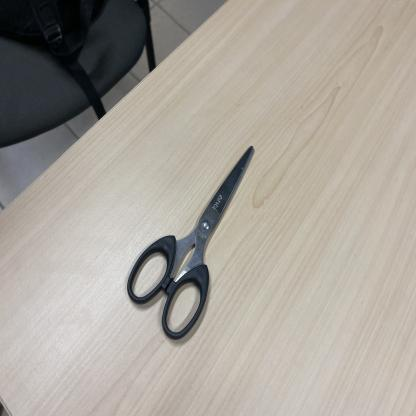scissors: (127, 147, 254, 341)
